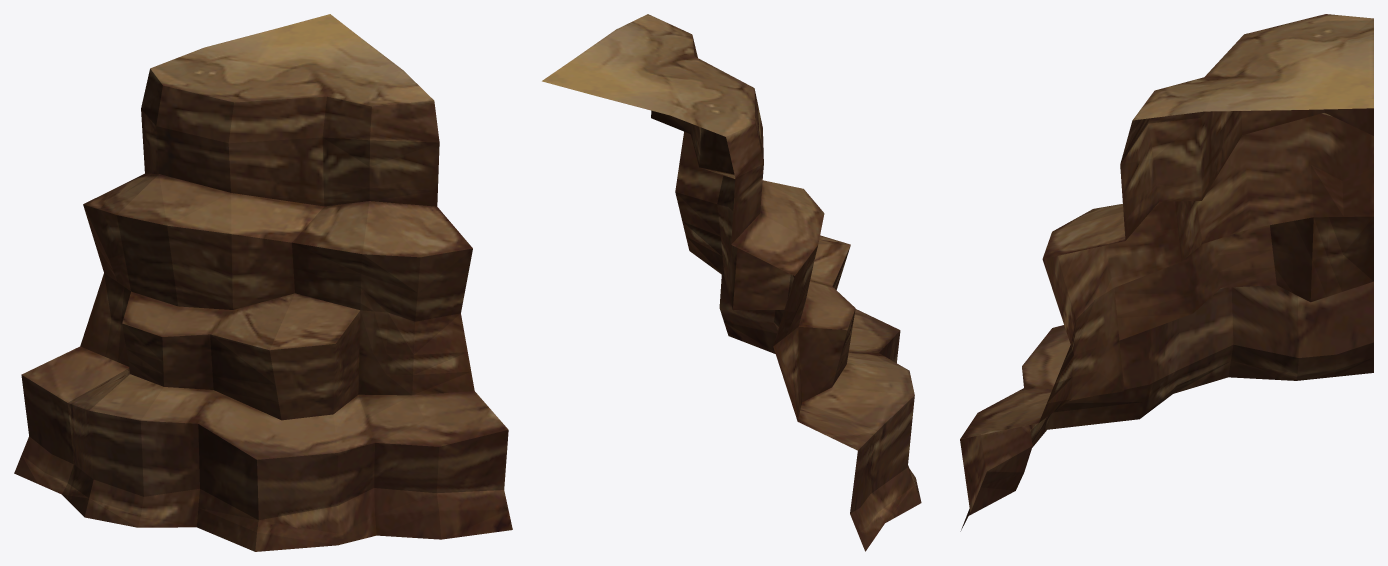
Rendered from nashgar_trim_convex4_rock01_01.FBX.
3 views of the same model, side by side, from view 1: azimuth 30°, elevation 25°; view 2: azimuth 150°, elevation 25°; view 3: azimuth 270°, elevation 25° (orthographic). The views are drawn at different scales.
Parts seen in each view (by area): view 1: nashgar_trim_convex4_rock01_01; view 2: nashgar_trim_convex4_rock01_01; view 3: nashgar_trim_convex4_rock01_01.
Boxes of the visible parts, bbox=[...] form: nashgar_trim_convex4_rock01_01: bbox=[14, 14, 512, 551]; nashgar_trim_convex4_rock01_01: bbox=[542, 14, 921, 551]; nashgar_trim_convex4_rock01_01: bbox=[960, 14, 1373, 531].
Size of the model in its own units: 3.46 by 4 by 3.46.
